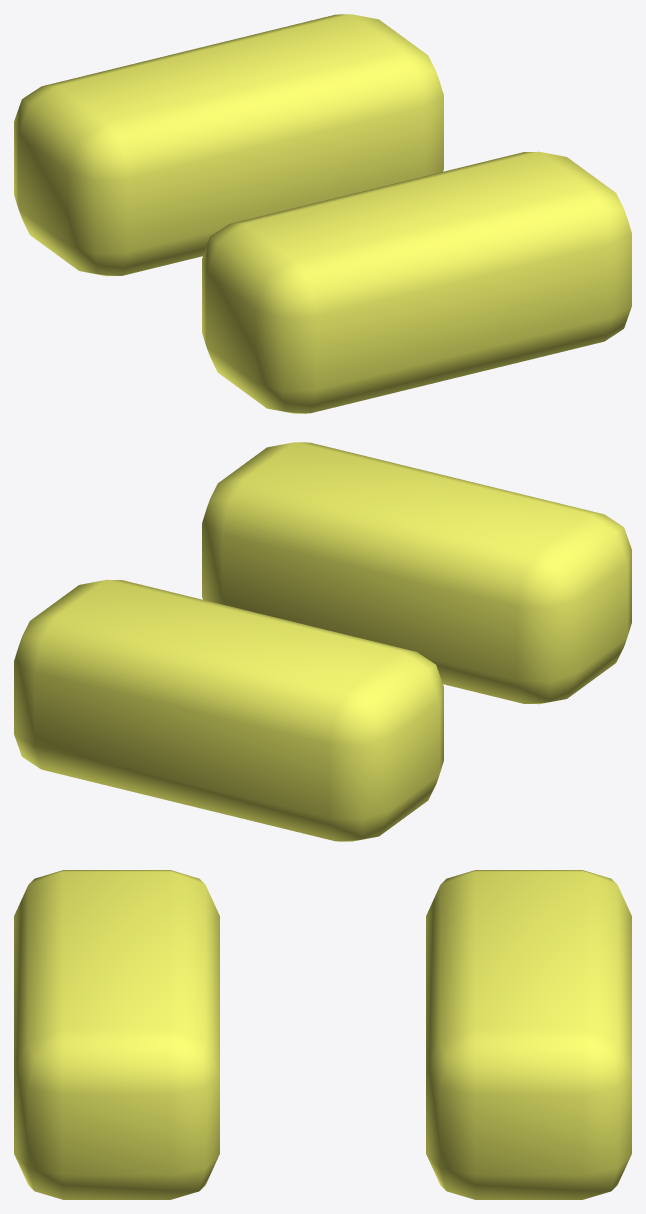
The model's file is SM_Craquez_Boots.fbx.
3 views of the same model, one above another, from view 1: azimuth 30°, elevation 25°; view 2: azimuth 150°, elevation 25°; view 3: azimuth 270°, elevation 25° (orthographic). The views are drawn at different scales.
Visible parts, largest first — view 1: SM_Craquez_Boots; view 2: SM_Craquez_Boots; view 3: SM_Craquez_Boots.
Part boxes in pixels (x1=…): SM_Craquez_Boots: x1=14, y1=14, x2=631, y2=413; SM_Craquez_Boots: x1=14, y1=442, x2=631, y2=841; SM_Craquez_Boots: x1=14, y1=870, x2=631, y2=1199.
Size of the model in its own units: 0.24 by 0.315 by 0.095.
